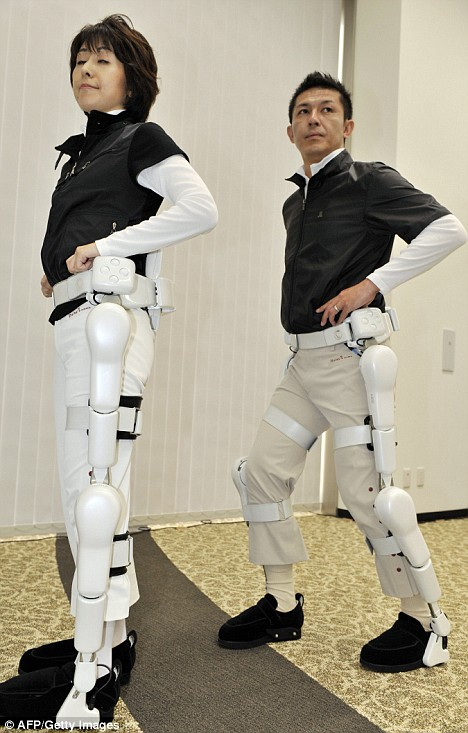feet: (204, 545, 450, 680), (6, 612, 144, 733)
